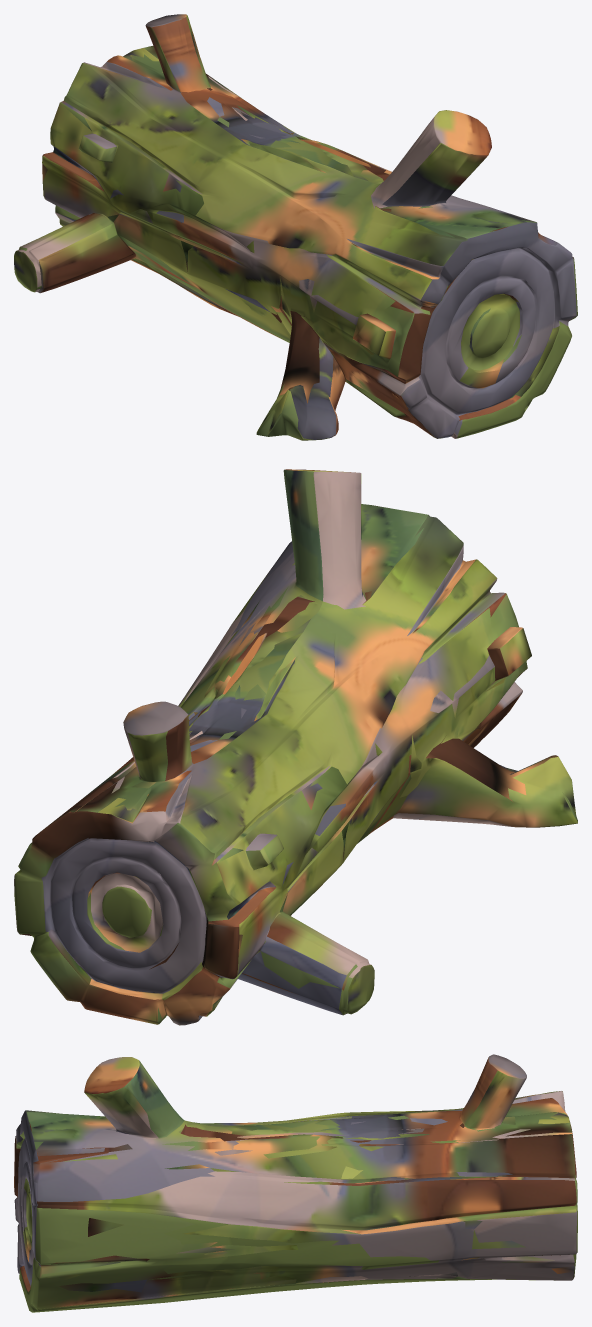
Rendered from log1.fbx.
3 renders of one model, top to bottom at view 1: azimuth 30°, elevation 25°; view 2: azimuth 150°, elevation 25°; view 3: azimuth 270°, elevation 25°, orthographic. The views are drawn at different scales.
Visible parts, largest first — view 1: node_0.003; view 2: node_0.003; view 3: node_0.003.
Boxes of the visible parts, <box> form: node_0.003: <box>14,14,577,440</box>; node_0.003: <box>14,469,577,1025</box>; node_0.003: <box>14,1054,577,1312</box>.
Bounding box in the file's own units: 26.63 × 22.13 × 46.09.
Materials: 1 (1 with a texture image).
